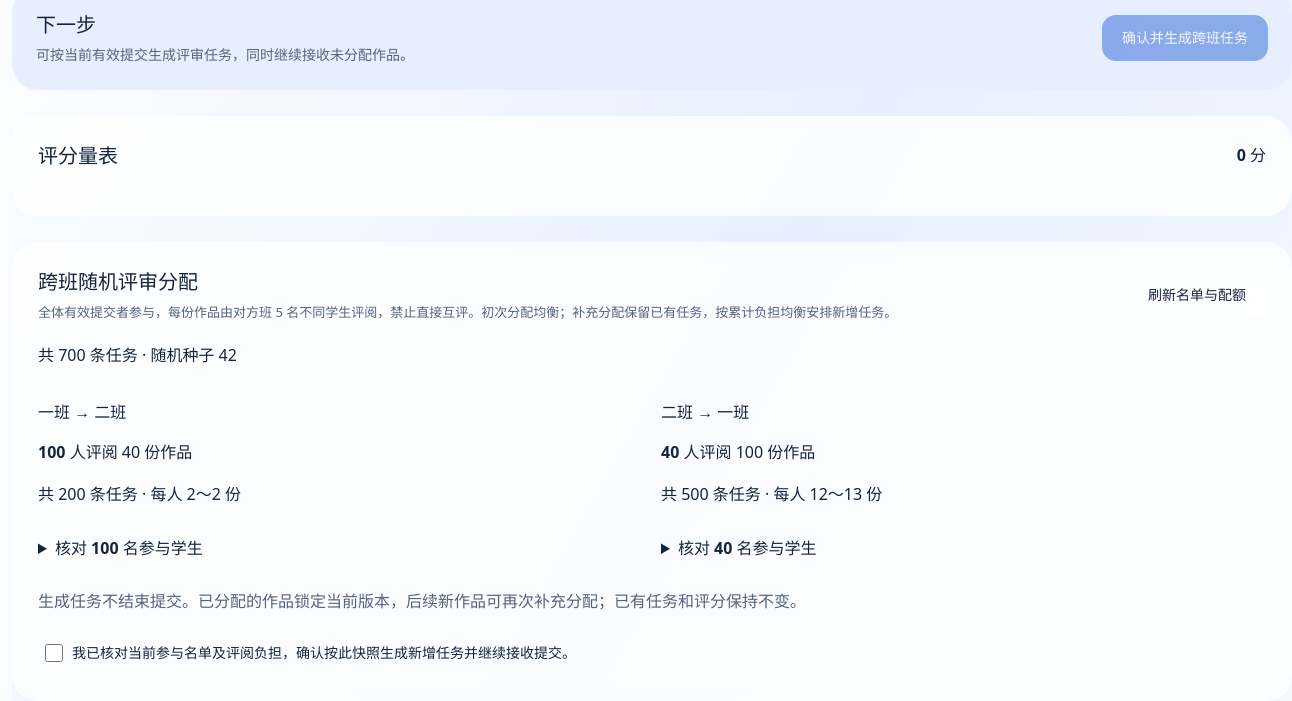
Test: 跨班分配确认 › 过期预览失败后禁用分配，保留重试入口
The width and height of the screenshot is (1292, 701).
(page scrolled)
Click the checkbox labelled "我已核对当前参与名单及评阅负担，确认按此快照生成新增任务并继续接收提交。" at (54, 653), box [45,644,63,662]
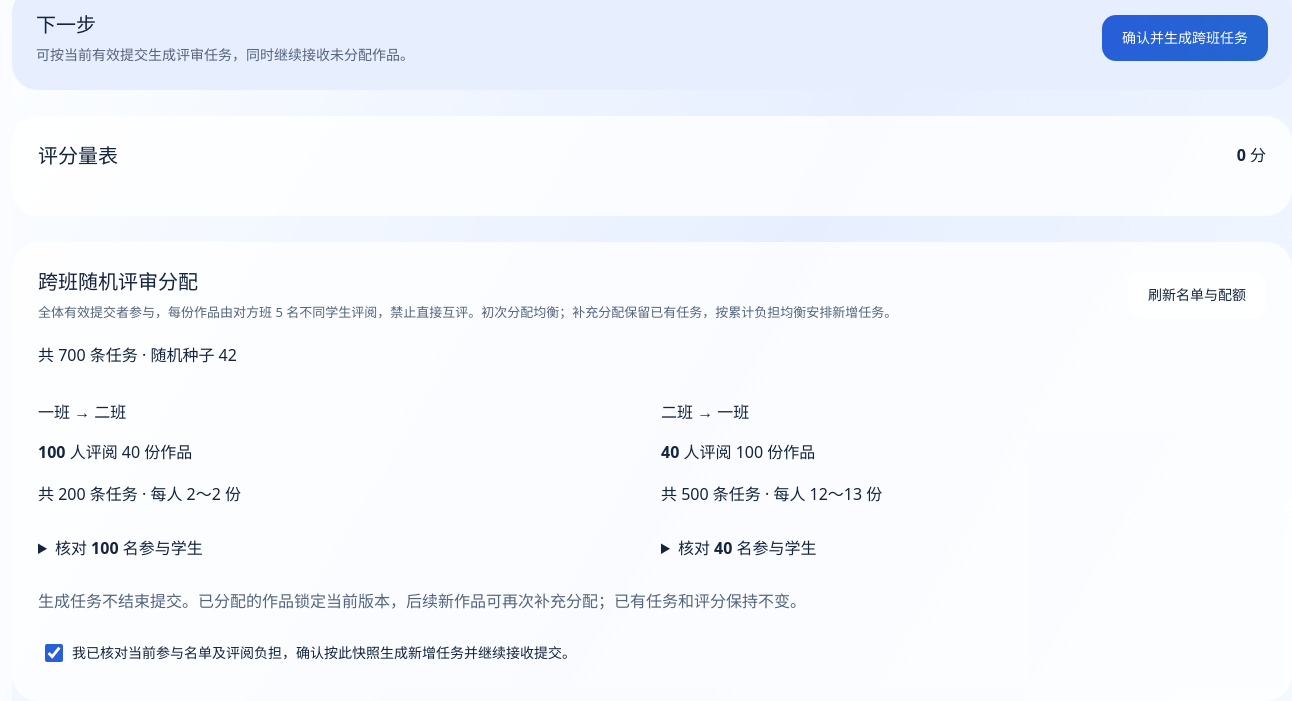
Click the button "确认并生成跨班任务" at (1185, 38), box [1102,15,1268,61]
(page scrolled)
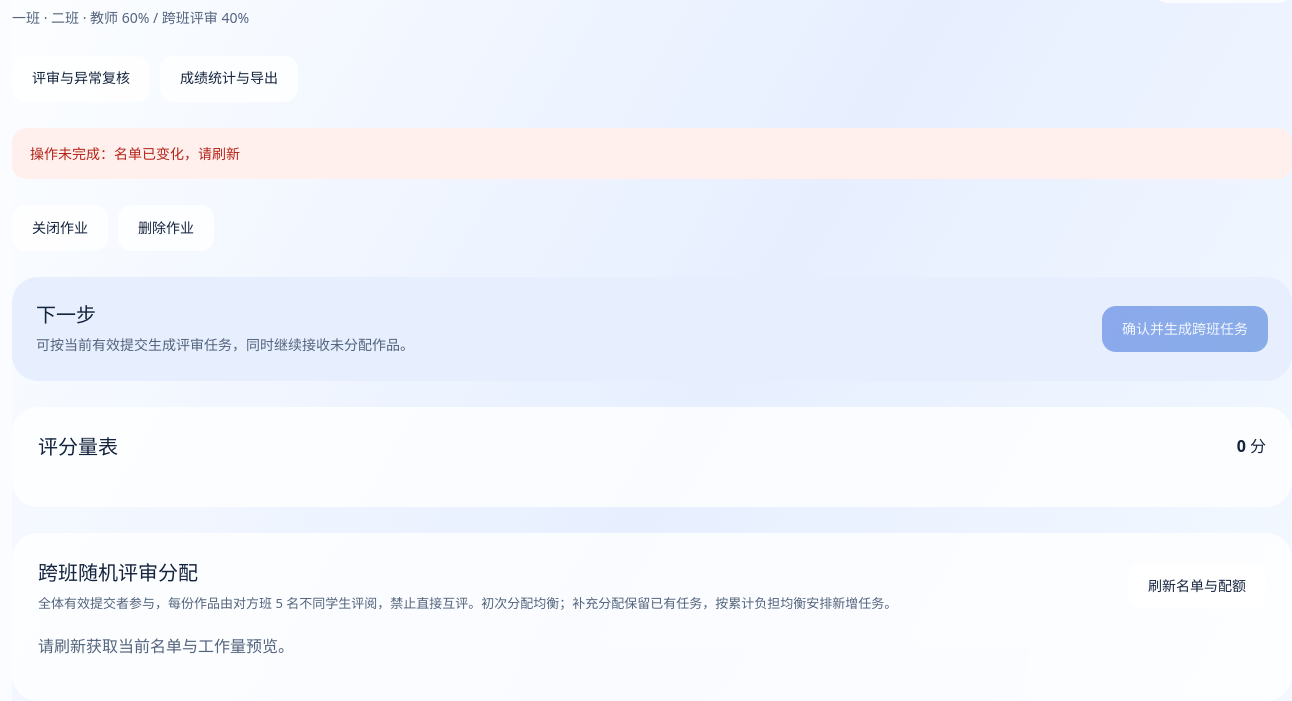
expect the button "刷新名单与配额" is shown: met, box [1128,563,1266,609]
expect the message "操作未完成：名单已变化，请刷新" is shown: met, box [12,128,1291,180]
expect the button "确认并生成跨班任务" is disabled: met, box [1102,306,1268,352]
